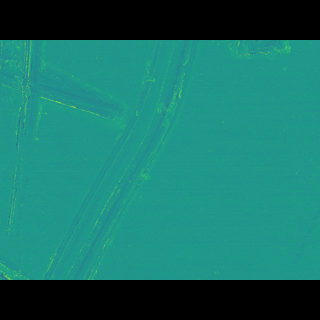Loch: (43, 69, 202, 249), (0, 69, 130, 137), (2, 69, 45, 218), (212, 69, 299, 86)
